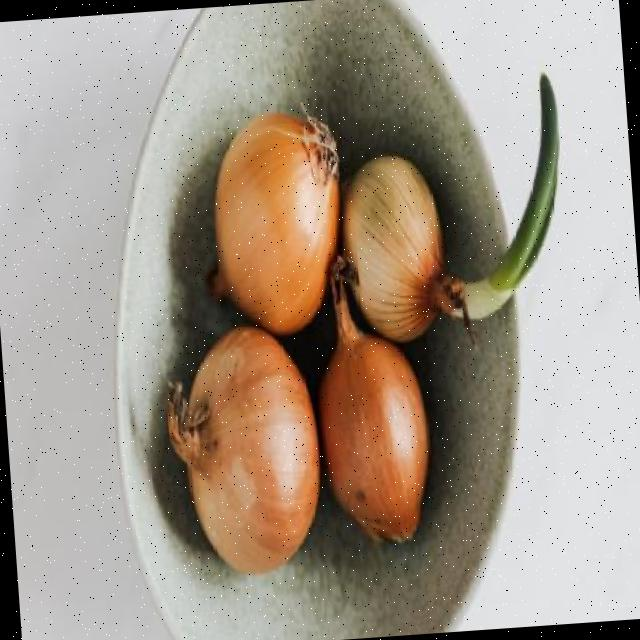Onion: (167, 327, 320, 572), (320, 255, 429, 541), (215, 112, 341, 334), (346, 155, 464, 341)
